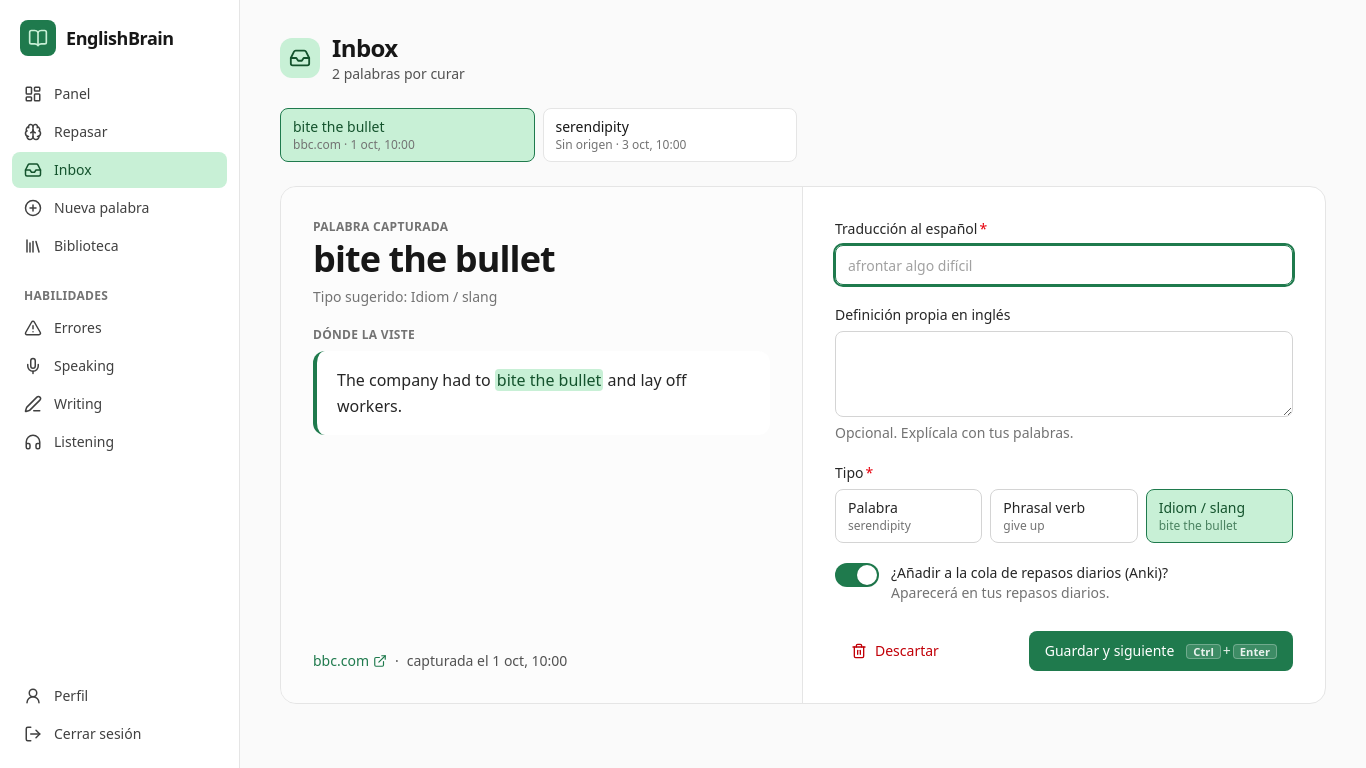
Scenario: 11.3 · Guardar con Ctrl+Enter, validar y descartar › con el interruptor apagado se guarda como archivo
Type "afrontar" into the field labelled "Traducción al español*".
click(1064, 265); type("afrontar")  # box [835,245,1293,285]
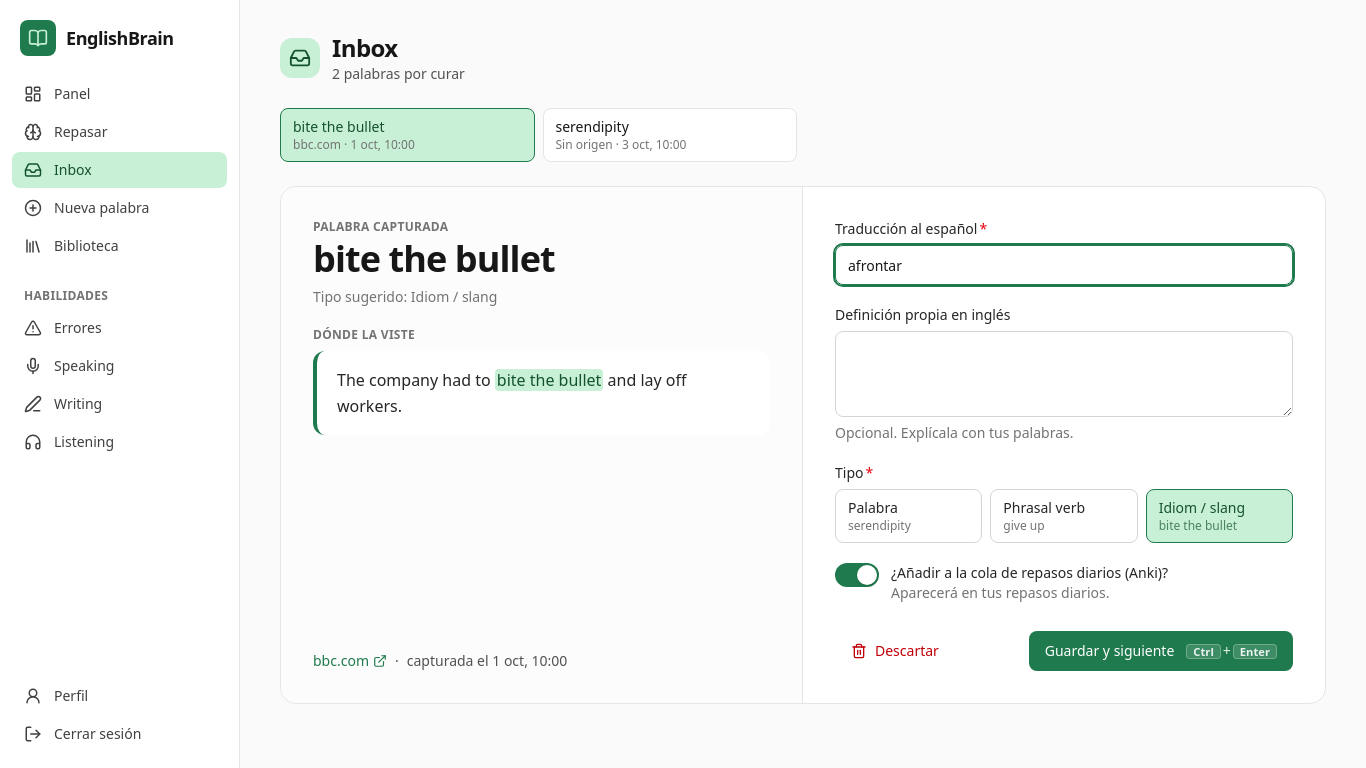
Click the switch.
click(857, 575)  # box [835,563,879,587]
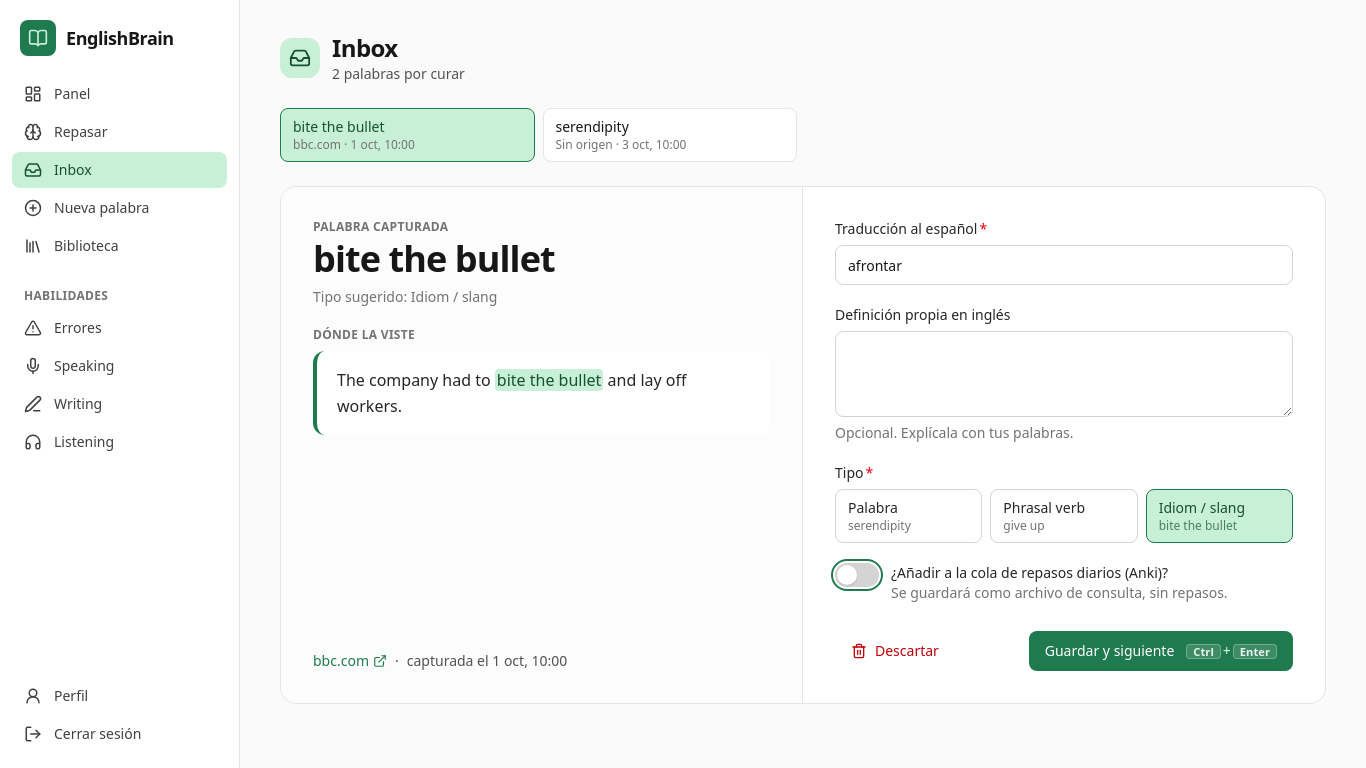
Click the button "Guardar y siguiente Ctrl + Enter".
click(1161, 651)  # box [1029,631,1293,671]
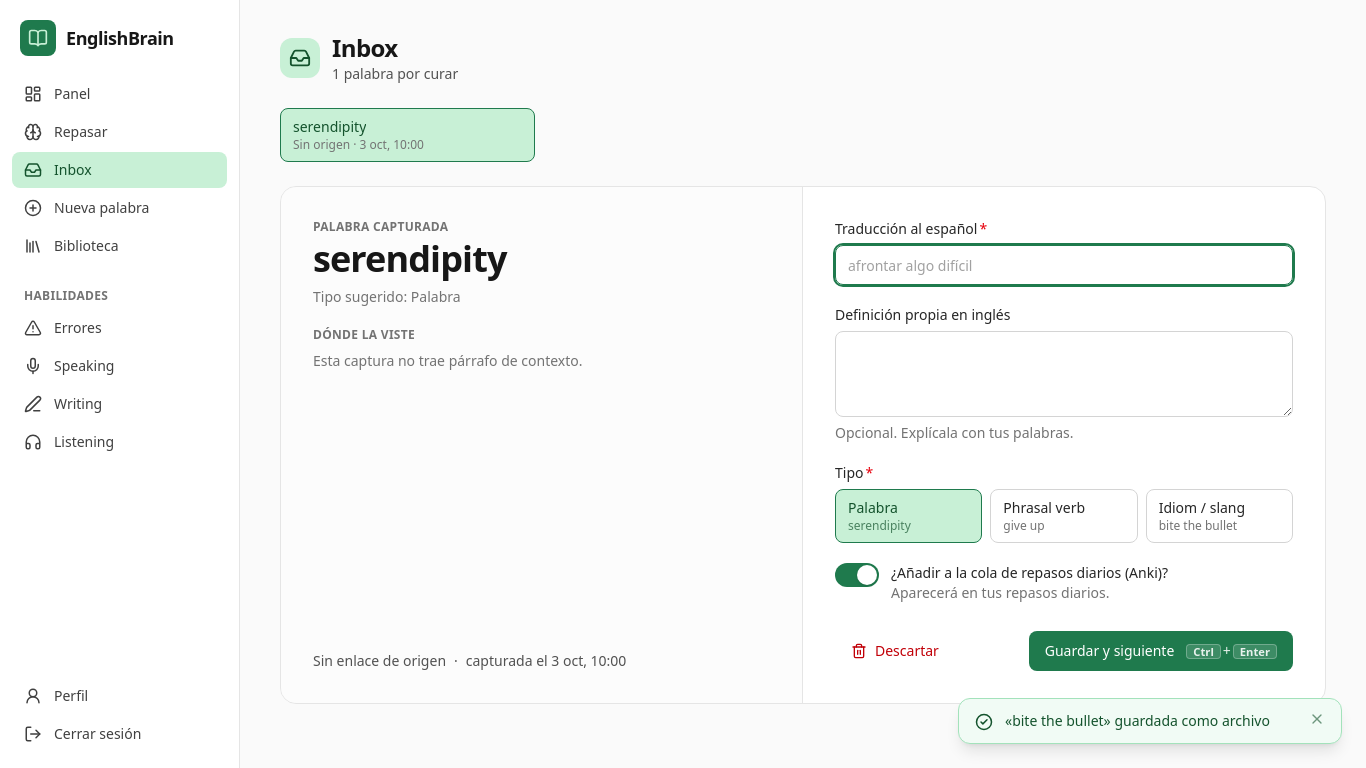
Expected: the text "«bite the bullet» guardada como archivo" is shown, [1005,711,1297,731]
